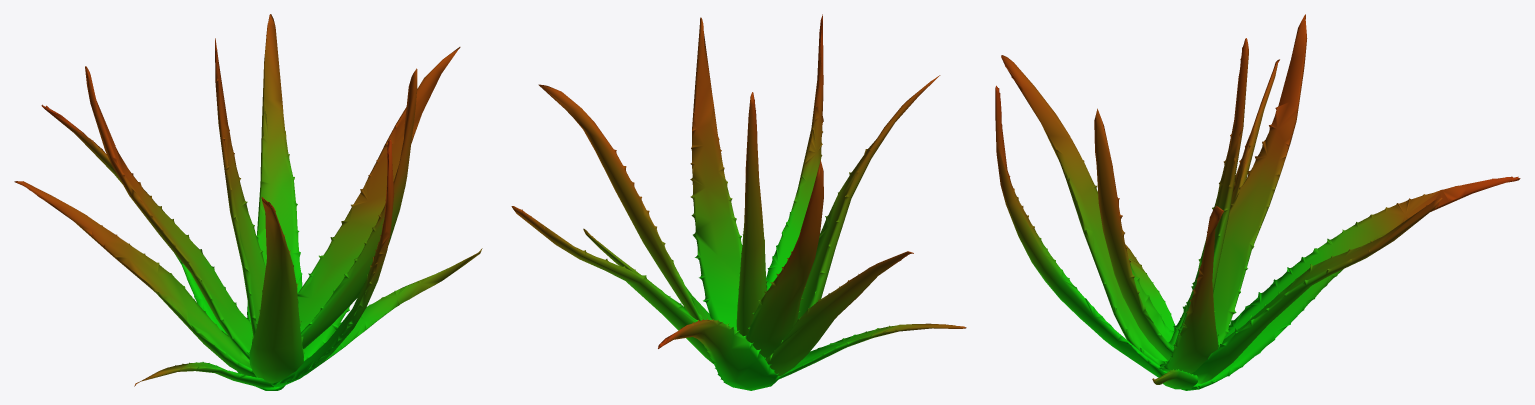
File: Aloe Vera_LOD3_Var3_ve4tbbrha.fbx
3 renders of one model, left to right at view 1: azimuth 30°, elevation 25°; view 2: azimuth 150°, elevation 25°; view 3: azimuth 270°, elevation 25°, orthographic. The views are drawn at different scales.
Visible parts, largest first — view 1: _vmbq_Var3_LOD3; view 2: _vmbq_Var3_LOD3; view 3: _vmbq_Var3_LOD3.
Boxes of the visible parts, box(x1,y1,x2,y2) form: _vmbq_Var3_LOD3: box(14, 14, 482, 390); _vmbq_Var3_LOD3: box(511, 14, 966, 390); _vmbq_Var3_LOD3: box(995, 14, 1520, 390).
Size of the model in its own units: 52.85 by 40.45 by 57.11.
